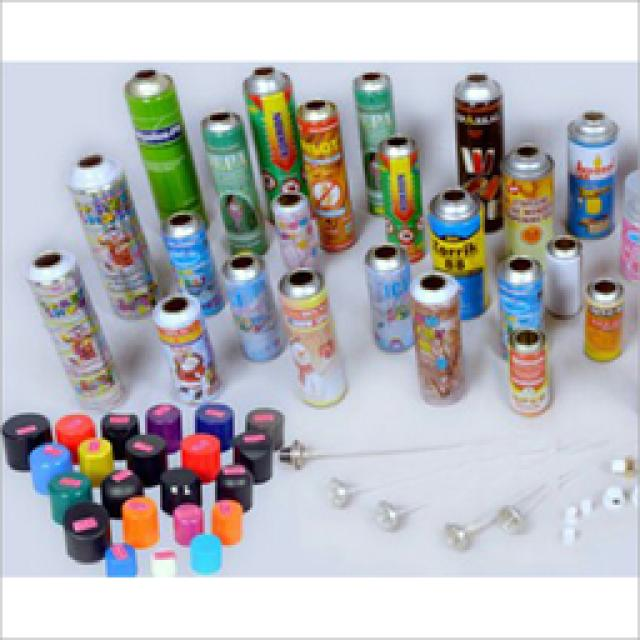B3: (27, 253, 124, 412), (123, 70, 205, 230), (77, 158, 143, 344), (242, 68, 307, 225), (278, 270, 349, 408), (201, 113, 268, 257), (298, 103, 357, 250), (453, 75, 505, 227), (151, 295, 221, 406), (426, 189, 486, 317), (410, 274, 466, 404), (220, 254, 286, 361), (161, 212, 226, 320), (352, 73, 399, 216), (566, 114, 620, 238), (501, 146, 555, 268), (374, 136, 426, 256), (364, 245, 415, 351), (497, 257, 545, 364), (507, 327, 552, 415), (584, 280, 626, 362), (544, 237, 584, 321)
